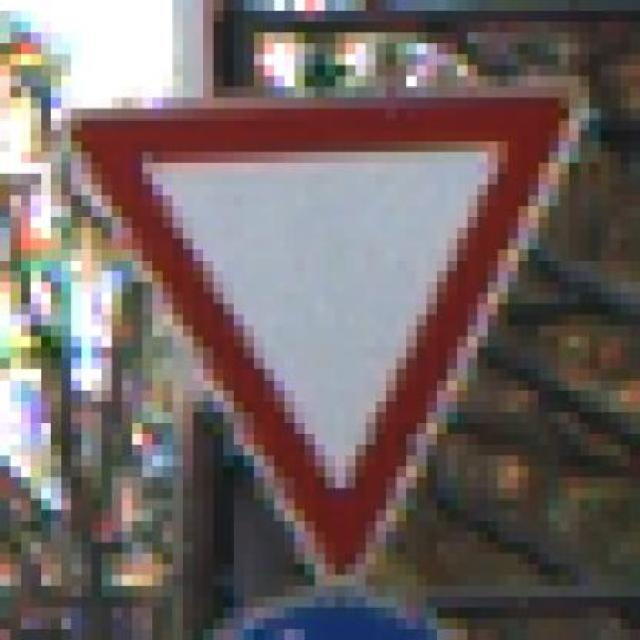Give Way: (40, 65, 620, 597)
